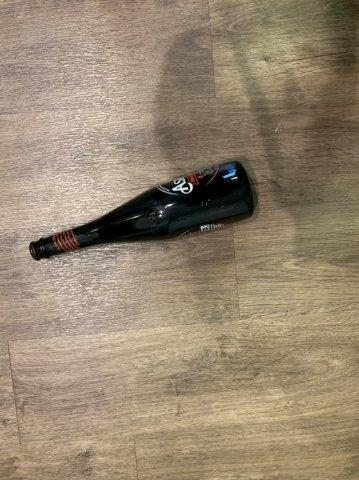botolkaca: (28, 161, 254, 260)
